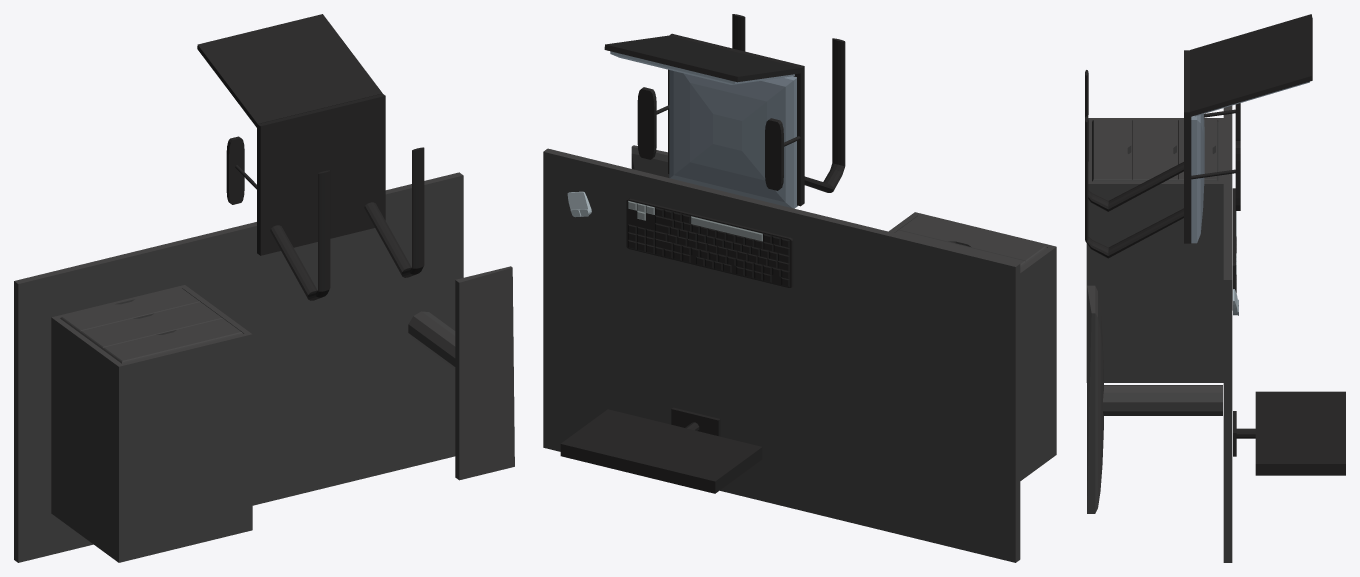
Rendered from WorkingRoom_LargeTable.fbx.
3 renders of one model, left to right at view 1: azimuth 30°, elevation 25°; view 2: azimuth 150°, elevation 25°; view 3: azimuth 270°, elevation 25°, orthographic. The views are drawn at different scales.
Parts seen in each view (by area): view 1: desk.001; view 2: desk.001; view 3: desk.001.
Part boxes in pixels (x1,y1,x2,y2): desk.001: (14, 14, 514, 562); desk.001: (543, 14, 1056, 562); desk.001: (1085, 14, 1345, 562).
Size of the model in its own units: 3 by 2.78 by 1.5.
